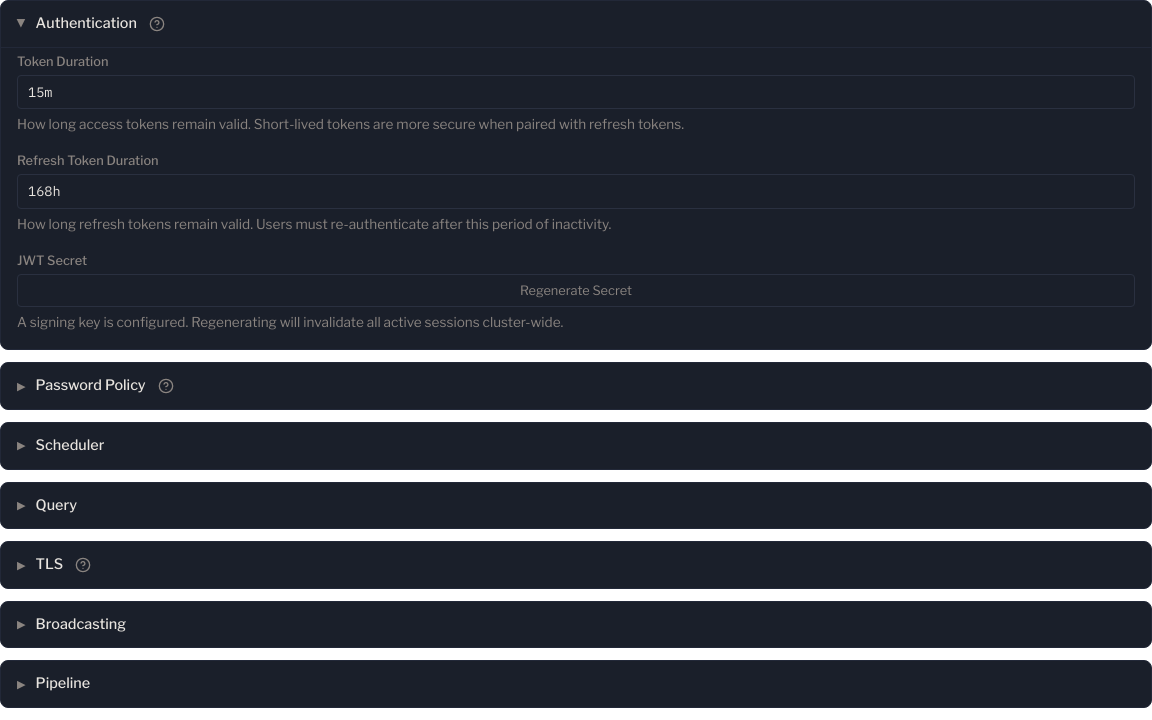
Scenario: ServiceSettings help › the TLS fields stay on screen without a certificate, disabled with the reason
What coordinates should you click on to do the following:
click the text "TLS"
I would click on:
 (49, 565)
Its box is [36, 554, 63, 576].
(page scrolled)
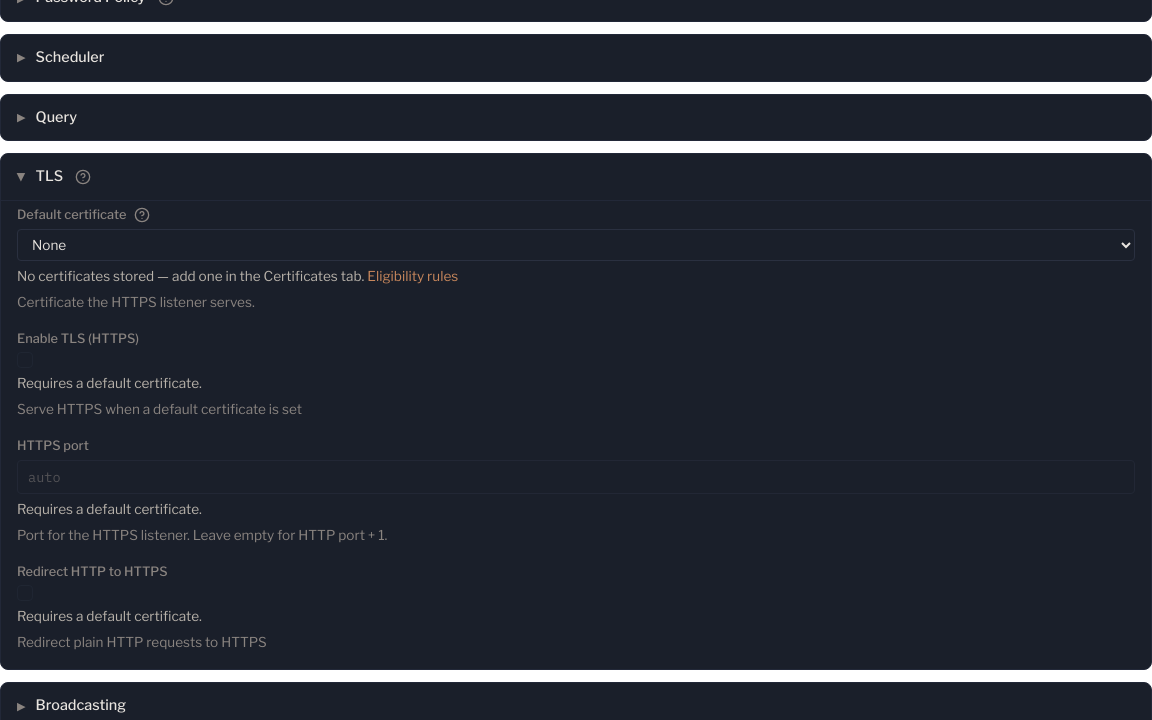
Now the text "Requires a default certificate." below "Enable TLS (HTTPS)" is shown, box [17, 375, 202, 391]
Now the text "Requires a default certificate." below "HTTPS port" is shown, box [17, 501, 202, 517]
Now the text "Requires a default certificate." below "Redirect HTTP to HTTPS" is shown, box [17, 608, 202, 624]
